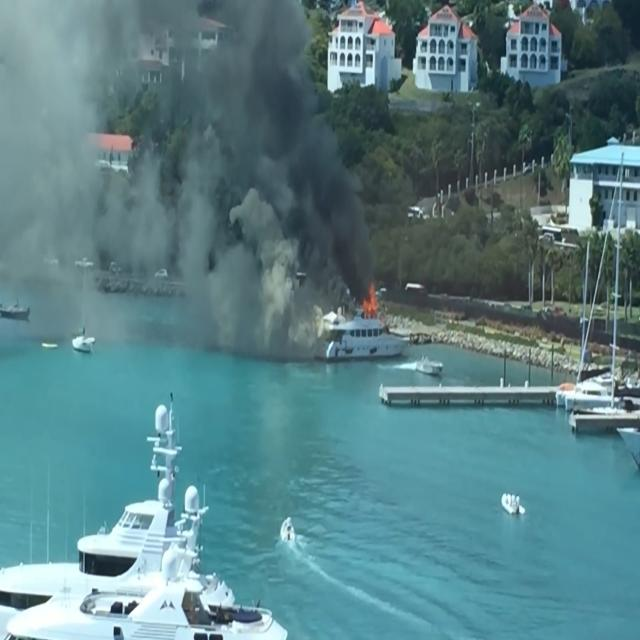smoke: (220, 10, 310, 188), (299, 144, 371, 288)
